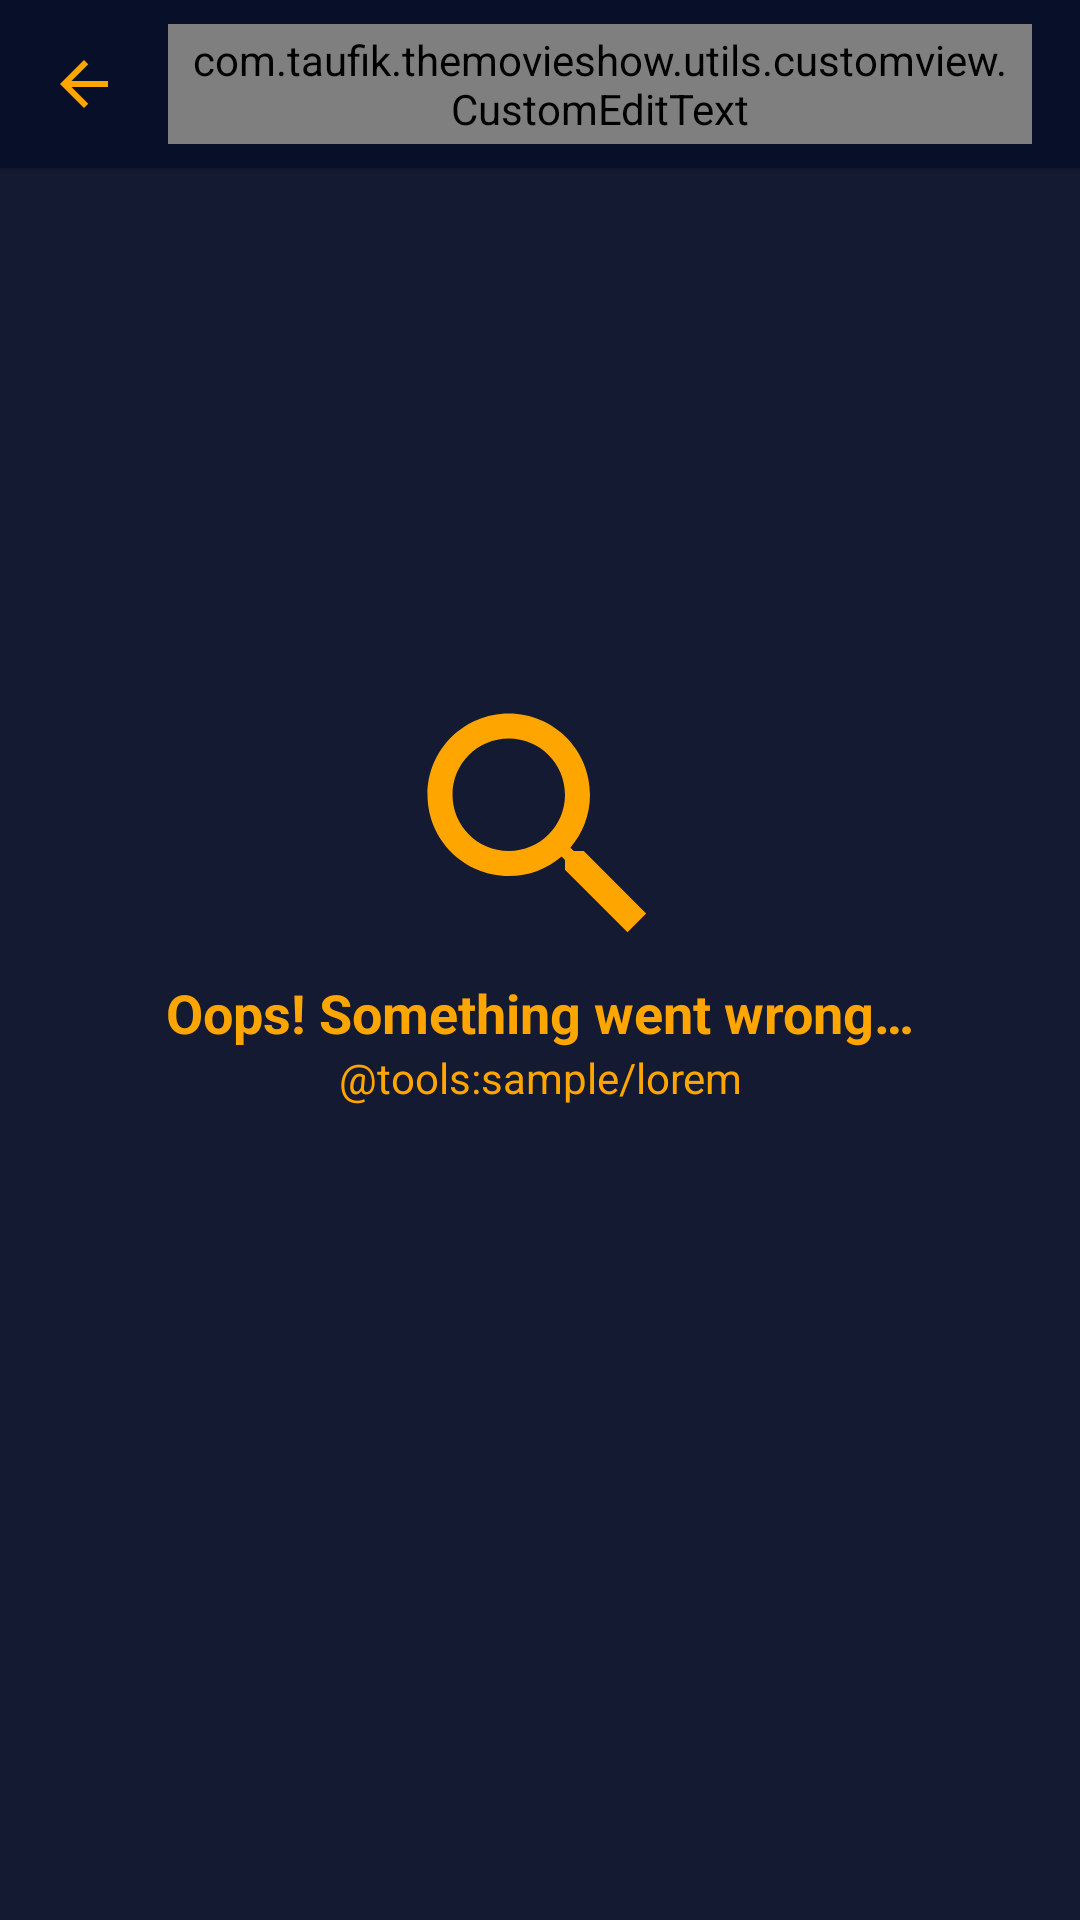

Icon bounding boxes for this 1080×1920 phone screenshot, format box=[x1, y1, x2, y2]:
arrow back: box=[60, 60, 108, 108]
search: box=[427, 713, 646, 932]
